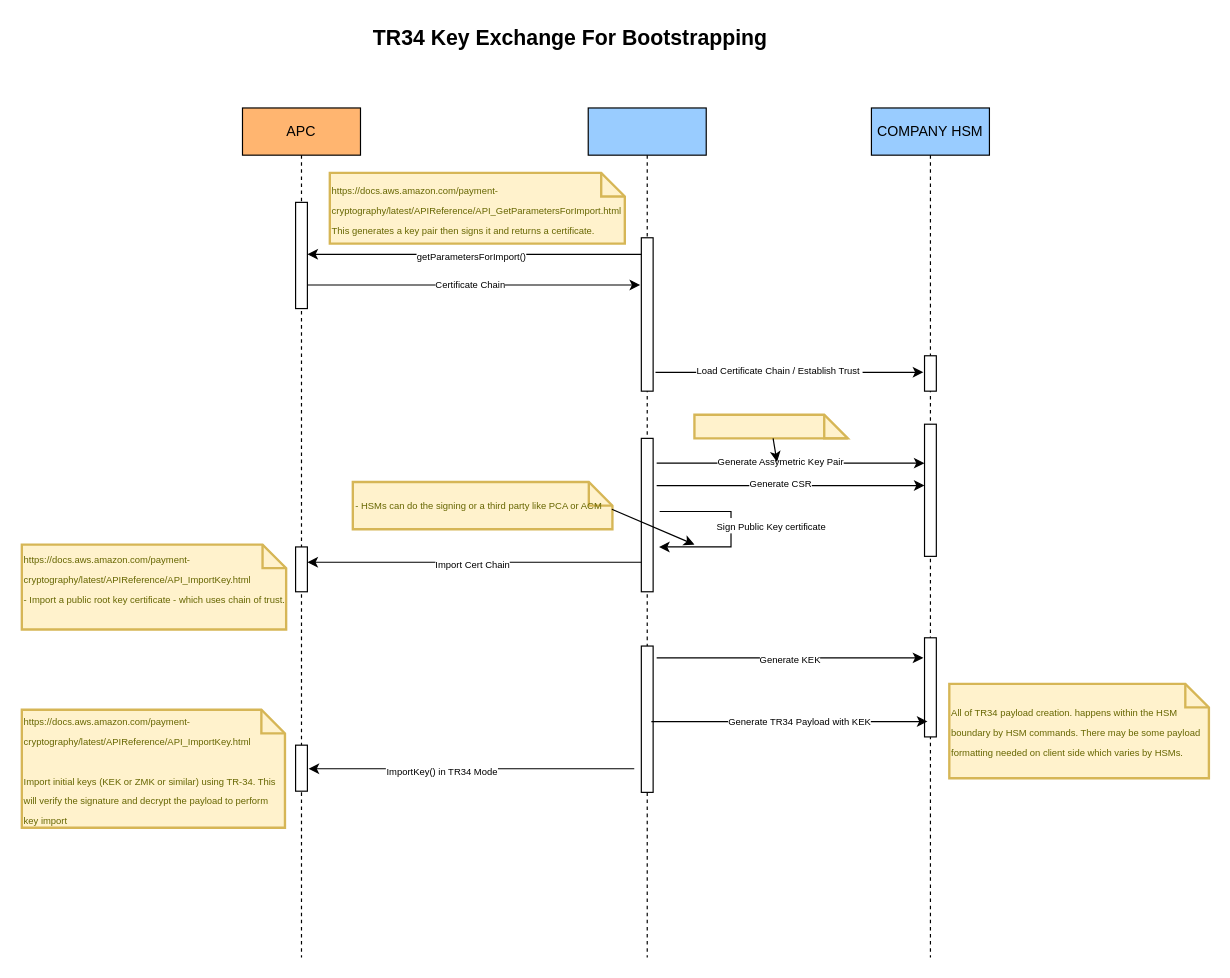
Some shapes in this 1230 by 978 pixel diagram are drawn without their labels. The box of each missing label's shape, as (x1, y1, x2, y2) in pixels:
COMPANY: (587, 107, 706, 958)
Signing Key: (693, 413, 848, 439)
